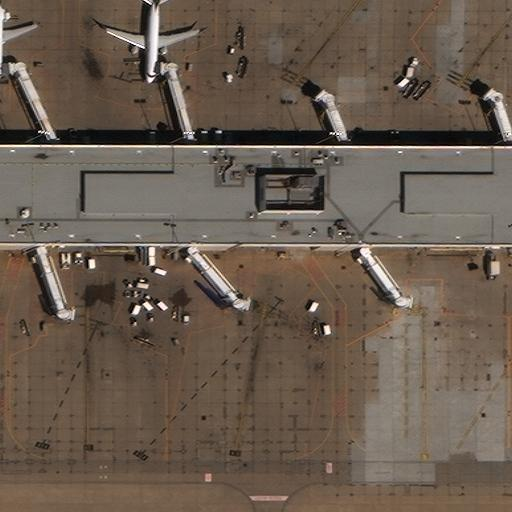Medium Civil Transport: (106, 0, 198, 83), (0, 0, 37, 78)
